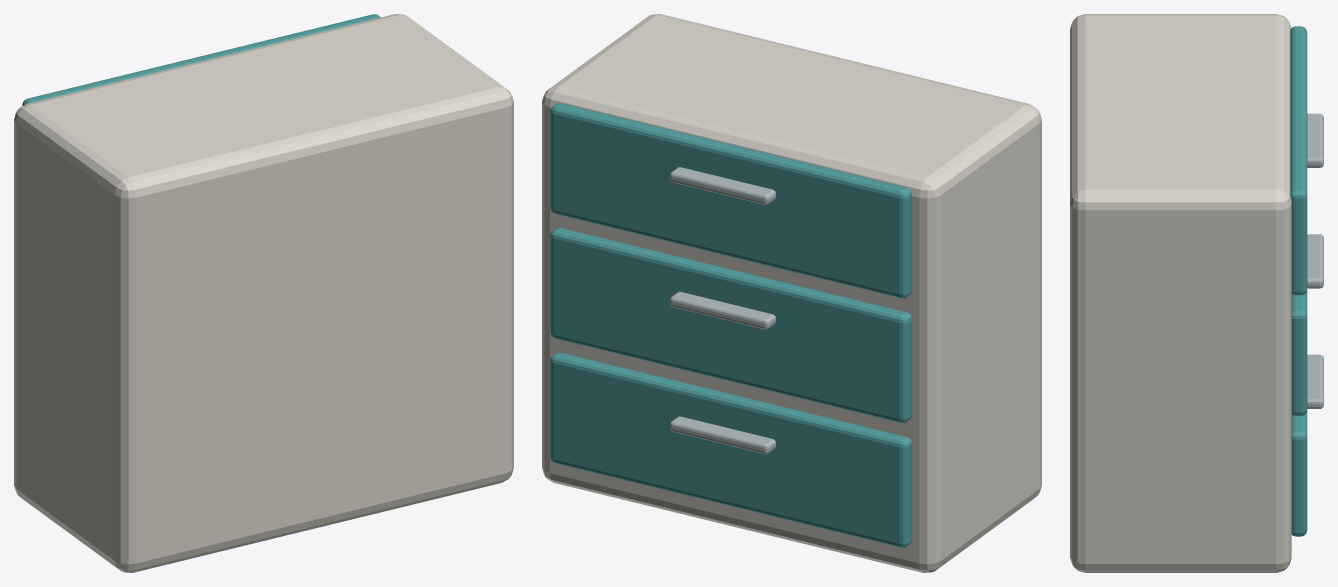
Rendered from cabinet.glb.
The picture shows the model from 3 angles, left to right: view 1: azimuth 30°, elevation 25°; view 2: azimuth 150°, elevation 25°; view 3: azimuth 270°, elevation 25°; orthographic projection. The views are drawn at different scales.
Visible parts, largest first — view 1: cabinet; view 2: cabinet; view 3: cabinet.
Part boxes in pixels (bbox=[...]): cabinet: bbox=[14, 14, 513, 572]; cabinet: bbox=[542, 14, 1041, 572]; cabinet: bbox=[1070, 14, 1323, 572].
Bounding box in the file's own units: 1 × 0.95 × 0.5725.
